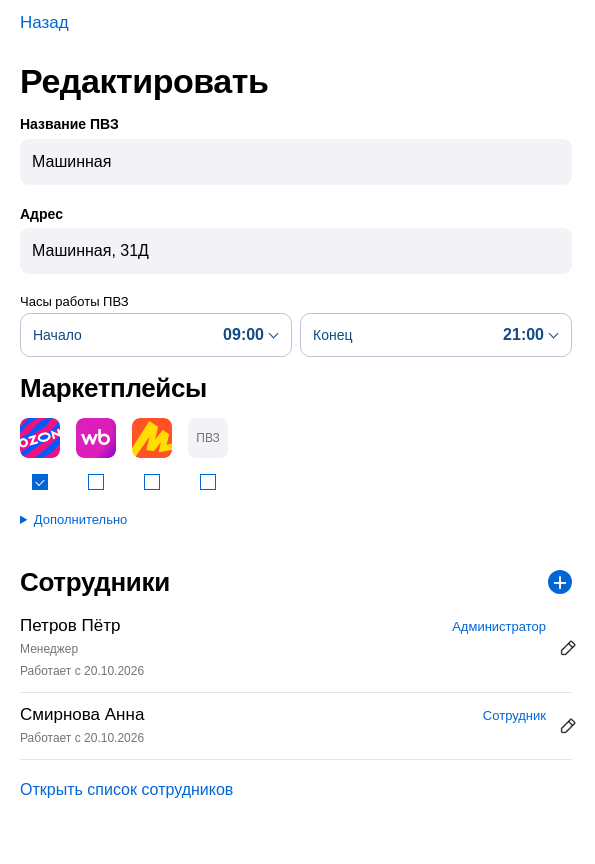
Test case: редактирование из /workplaces/11/edit меняет только роль и должность
Click the link named "Редактировать сотрудника Петров Пётр". click: click(568, 648)
box: [558,638,578,658]
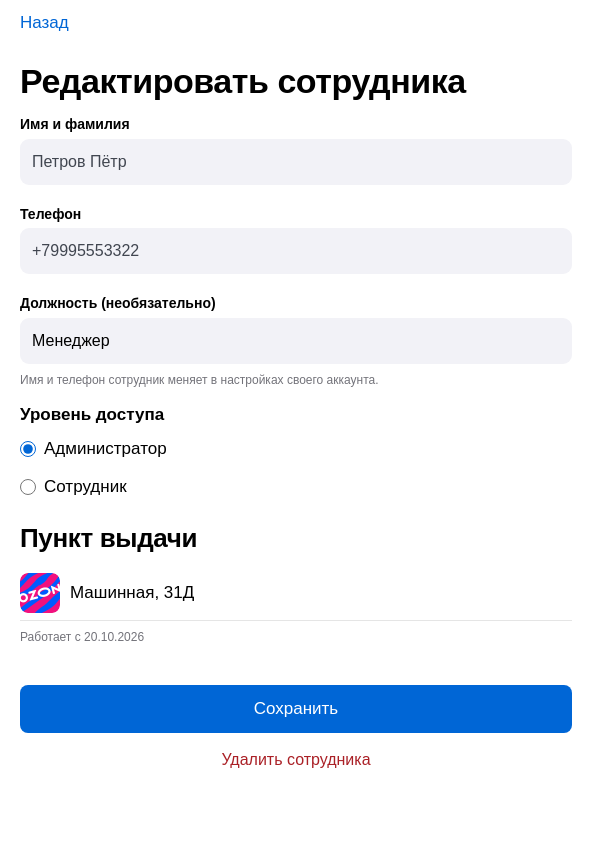
Check: the field named "Имя и фамилия" reads "Петров Пётр", box [32,153,127,170]
Check: the text "Работает с 20.10.2026" is shown, box [20,630,144,644]
Clear the field labelled "Должность (необязательно)". click: (296, 341)
box: [20,318,572,364]
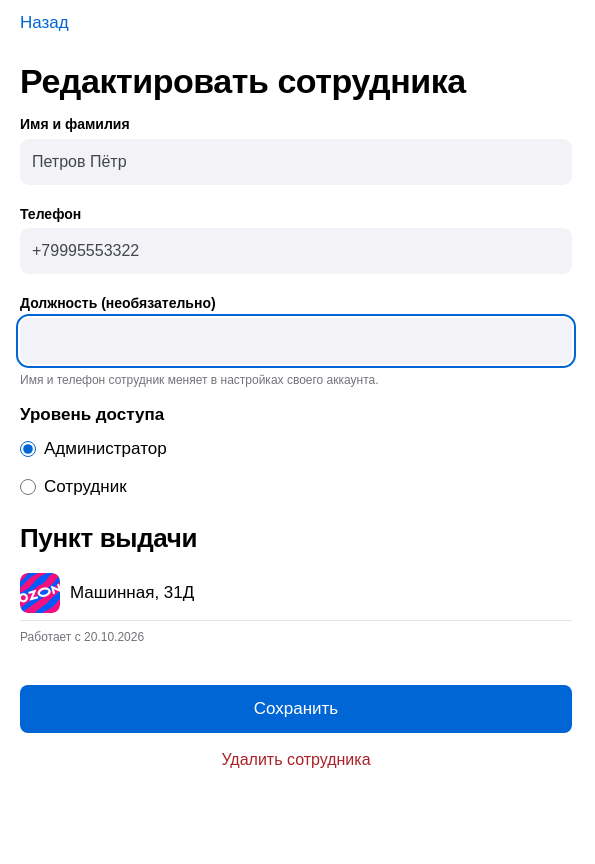
Click the radio button labelled "Сотрудник". click: click(28, 487)
box: [20,479,36,495]
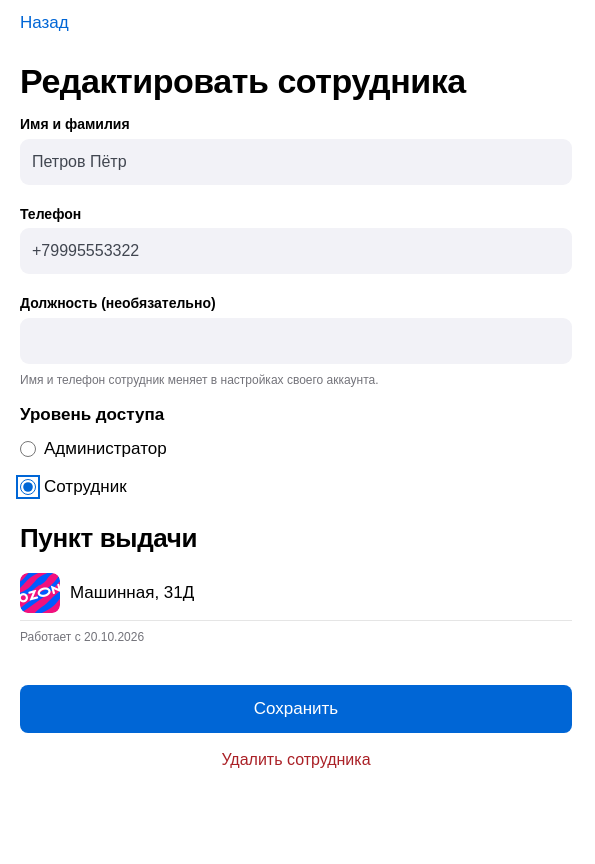
Click the button "Сохранить". click: click(296, 710)
box: [20,686,572,734]
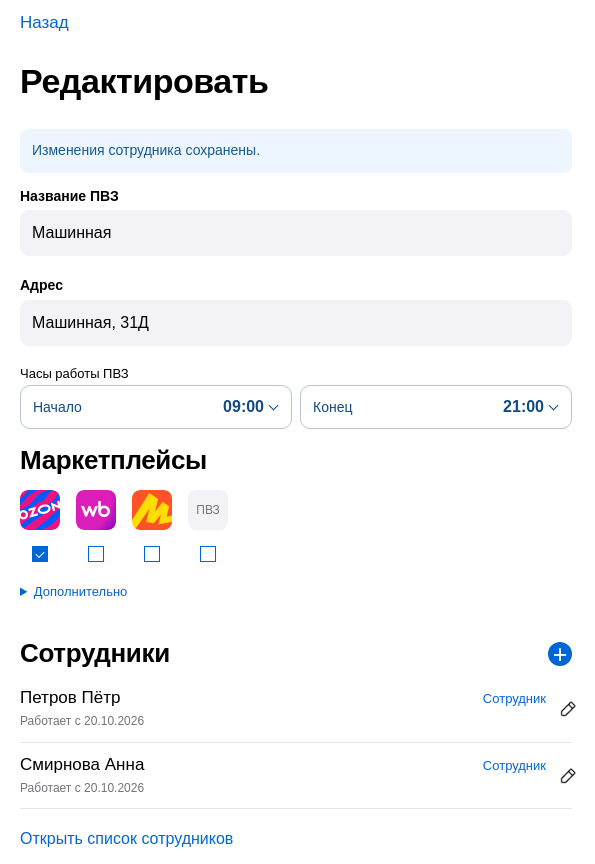
Check: the text "Петров Пётр" is shown, box [20,688,120,707]
Check: the field showing "Машинная" is shown, box [20,210,572,256]
